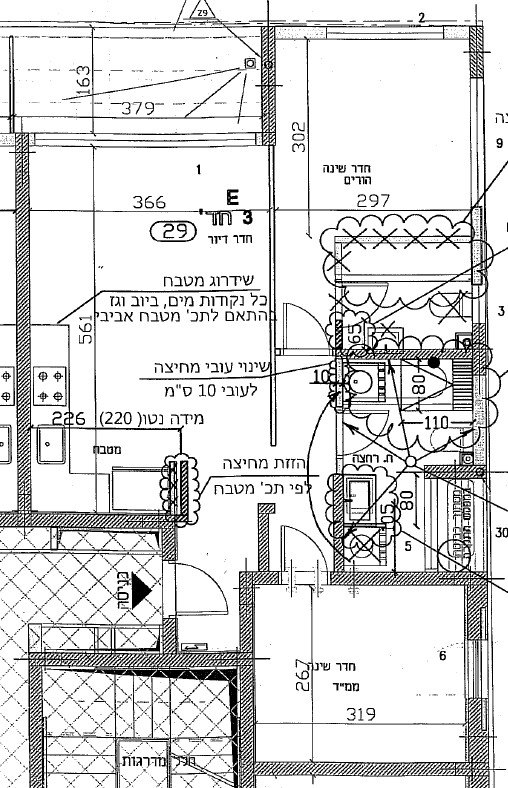door: (179, 556, 230, 620), (278, 299, 327, 344)
wall: (16, 153, 33, 513), (236, 761, 486, 776), (27, 653, 253, 667)
